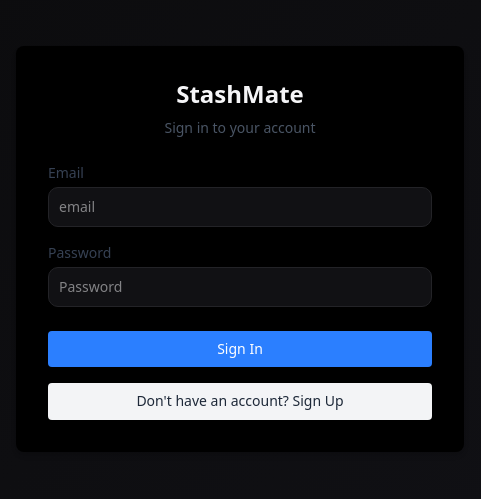
Test case: shows error when email is empty
What coordinates should you click on to do the following:
click the button "Sign In"
I would click on:
 (240, 349)
Its box is [48,331,432,367].
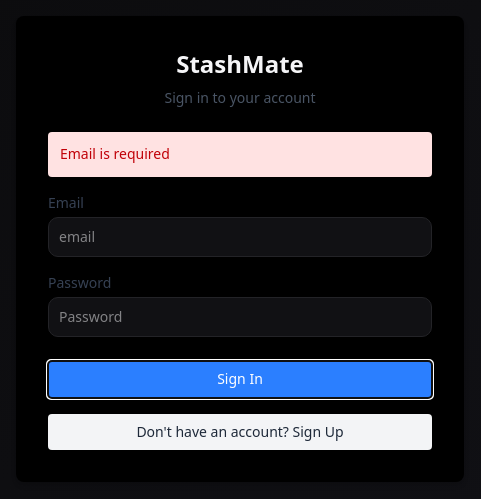
expect the text "Email is required" is shown: met, box [48,132,432,177]
